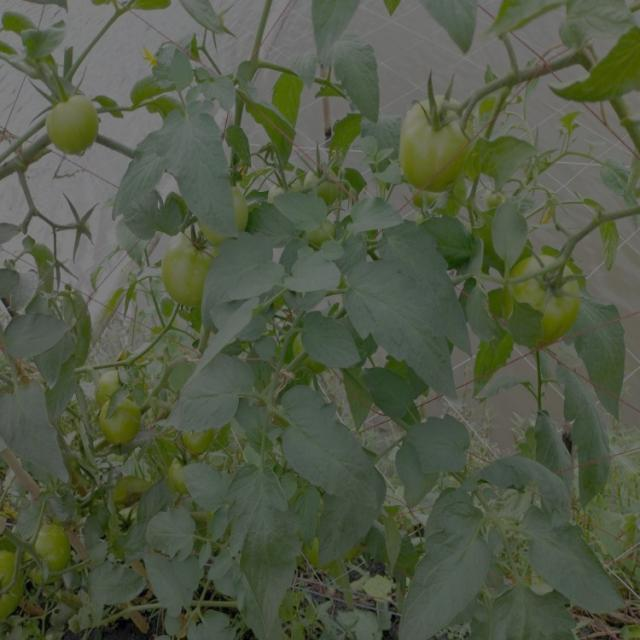tomato: (404, 96, 465, 200), (515, 256, 578, 332), (171, 235, 226, 308), (49, 95, 100, 154), (303, 158, 346, 207), (38, 526, 77, 574), (224, 180, 260, 228), (110, 476, 157, 512), (288, 332, 324, 378), (1, 548, 22, 614), (166, 453, 197, 494), (91, 375, 135, 401), (107, 400, 131, 445), (176, 425, 219, 449), (304, 534, 324, 571)
